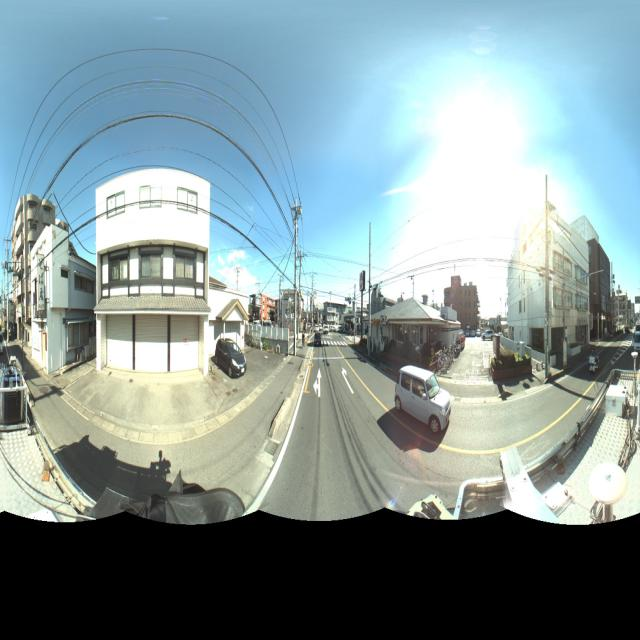b_1: (93, 168, 217, 386), (504, 210, 589, 385), (29, 236, 104, 370), (586, 232, 616, 348), (444, 260, 485, 340), (10, 195, 30, 351), (614, 283, 632, 339), (257, 287, 277, 334)
